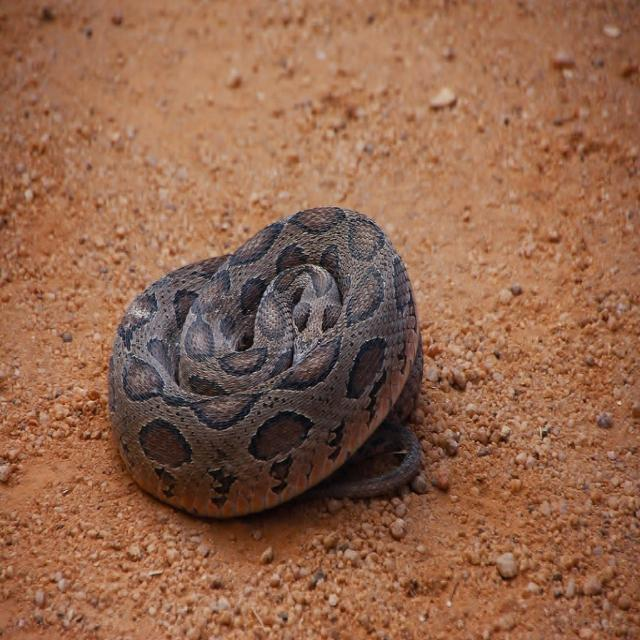Snake: (106, 203, 424, 520)
